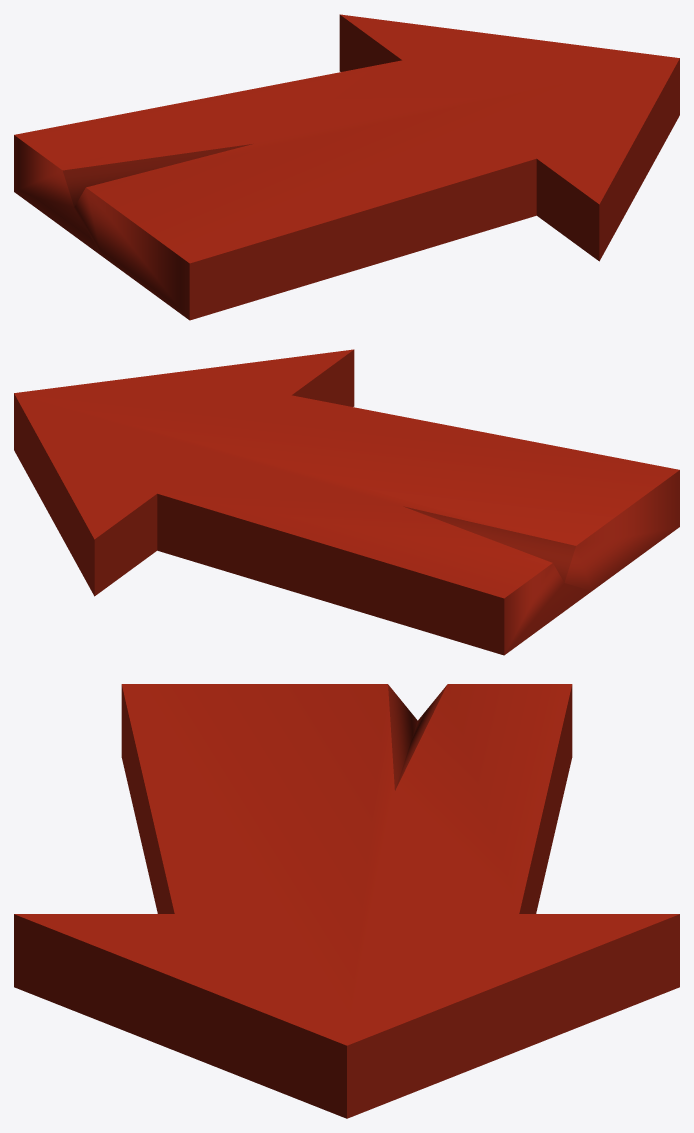
Rendered from _arrow.fbx.
3 renders of one model, top to bottom at view 1: azimuth 30°, elevation 25°; view 2: azimuth 150°, elevation 25°; view 3: azimuth 270°, elevation 25°, orthographic. The views are drawn at different scales.
Visible parts, largest first — view 1: pCube1; view 2: pCube1; view 3: pCube1.
Part boxes in pixels (x1,y1,x2,y2): pCube1: (14,14,679,320); pCube1: (14,349,679,655); pCube1: (14,684,679,1118).
Bounding box in the file's own units: 158 × 14.89 × 123.
